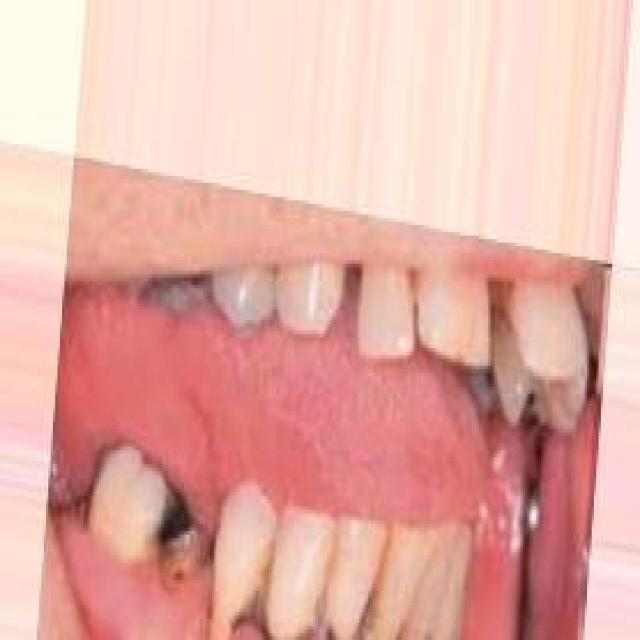caries: (145, 489, 211, 586)
